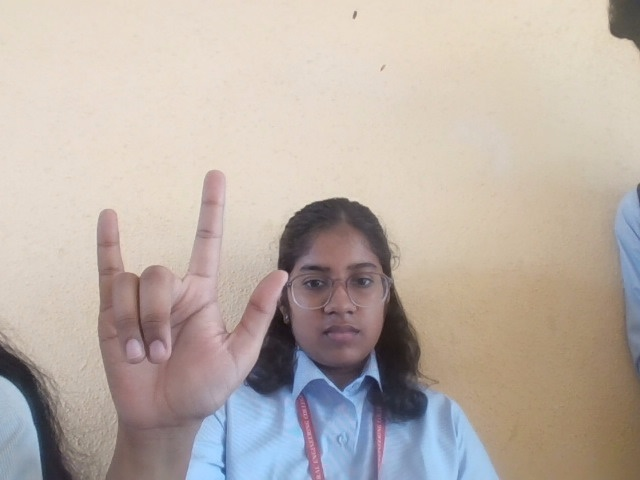I Love You: (85, 165, 289, 445)
